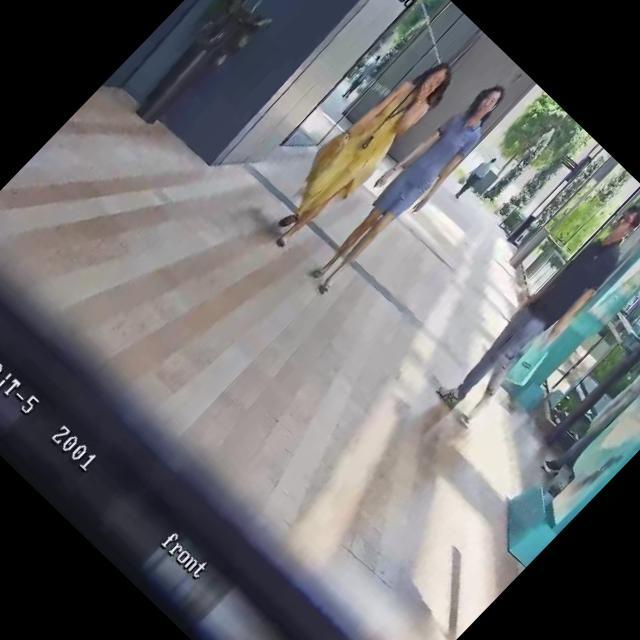person: (293, 69, 522, 304), (429, 190, 640, 431), (252, 42, 466, 260), (534, 286, 640, 499), (450, 152, 500, 203), (340, 51, 388, 100)
